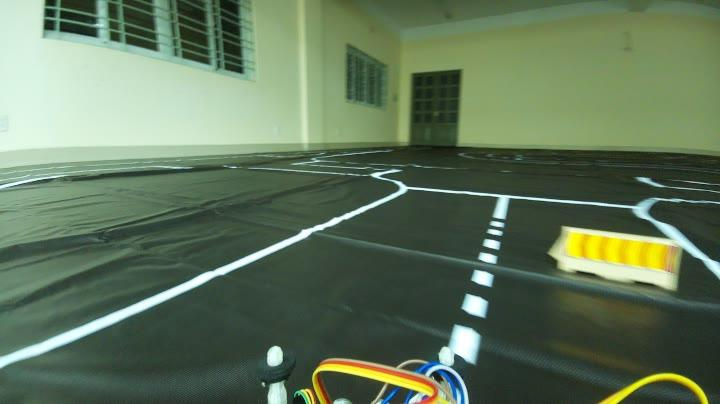roadblock: (537, 218, 685, 296)
